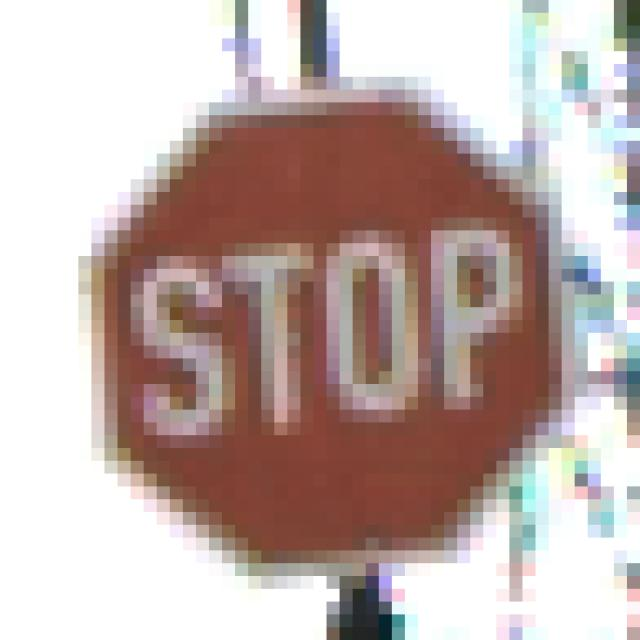STOP: (66, 78, 576, 577)
